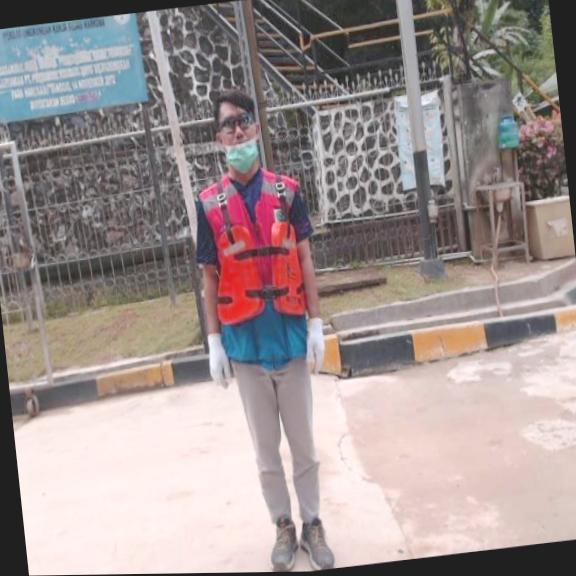safety_vest: (207, 217, 310, 328)
